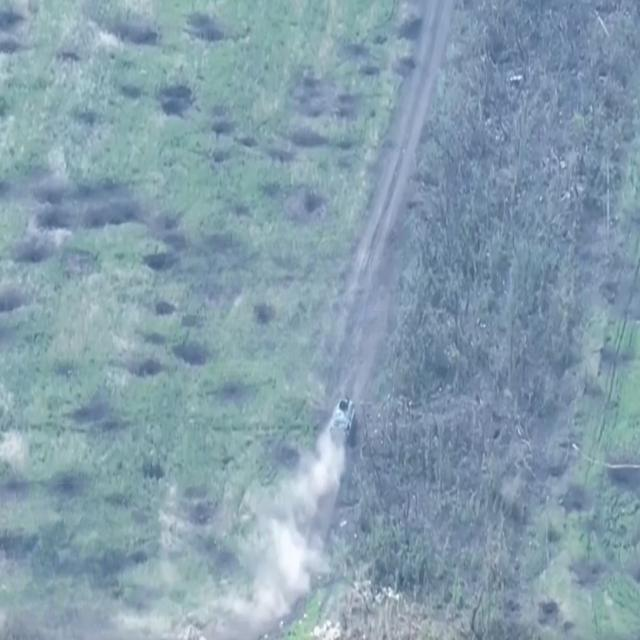APC: (328, 394, 358, 454)
